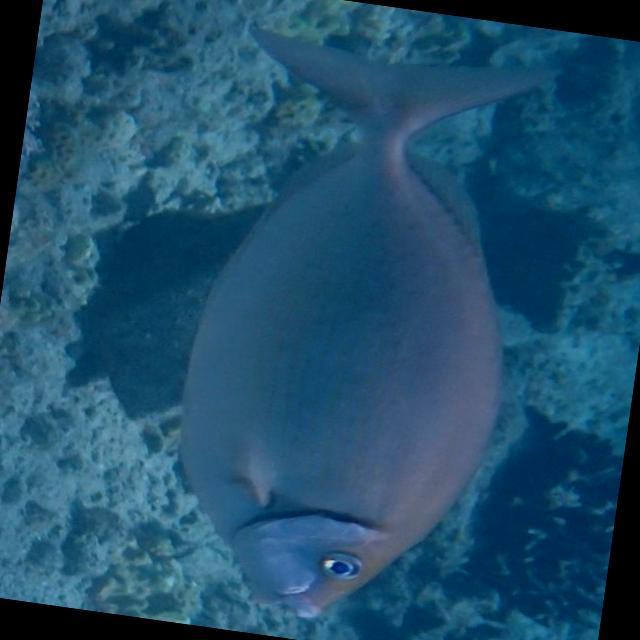Sokar Baligi: (140, 8, 559, 640)
